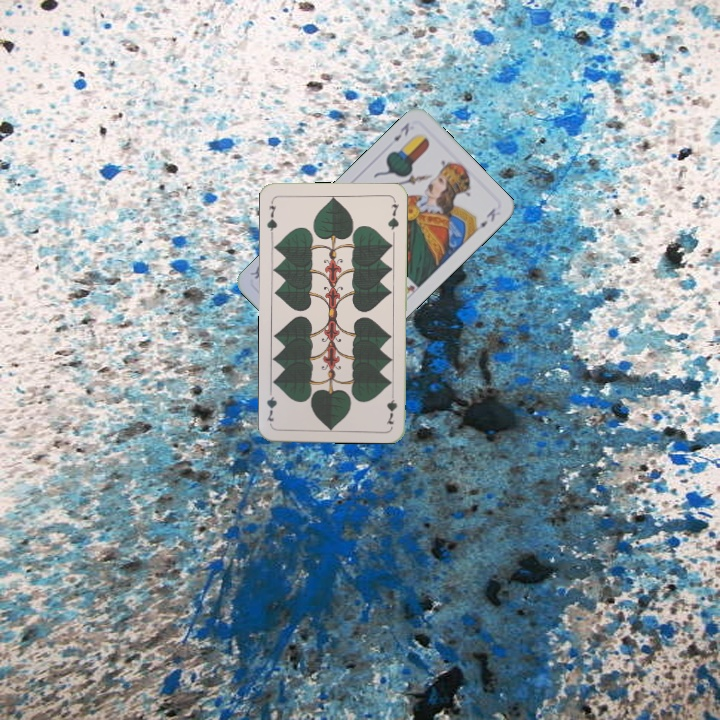EK: (389, 118, 412, 144)
G7: (383, 386, 400, 427), (263, 197, 279, 238)
